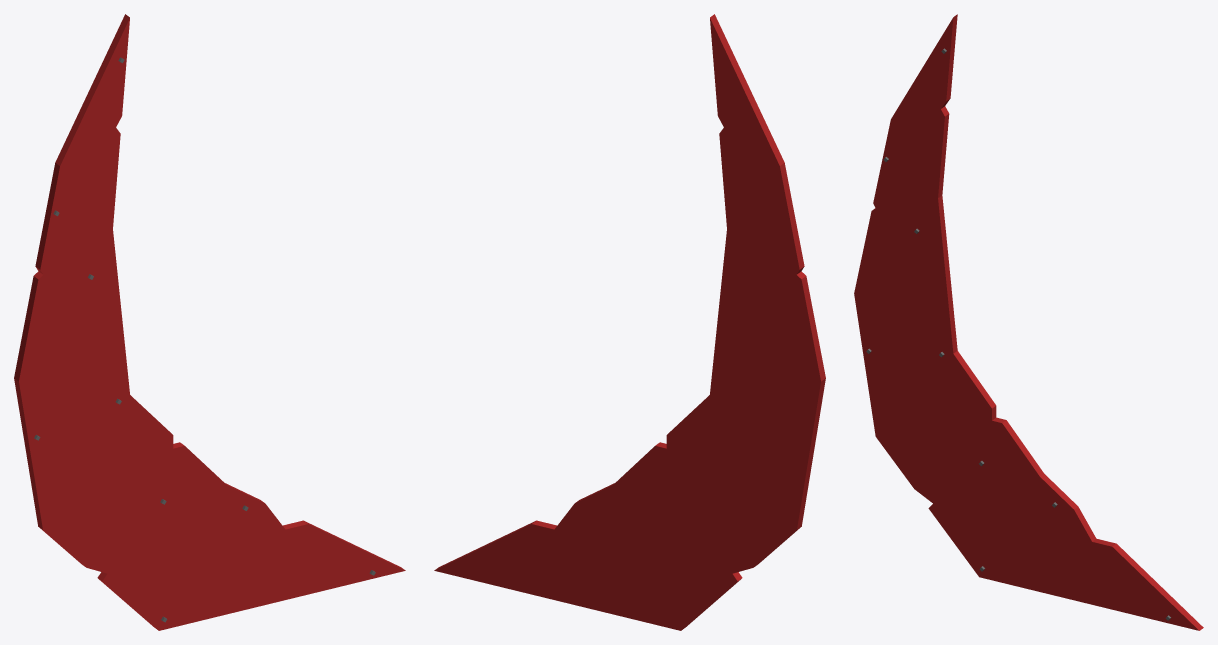
File: Prop_Building_Savage_Metal_Plated_Sheet_Tooth_Tusk_01.FBX
3 views of the same model, side by side, from view 1: azimuth 30°, elevation 25°; view 2: azimuth 150°, elevation 25°; view 3: azimuth 330°, elevation 25° (orthographic). The views are drawn at different scales.
Visible parts, largest first — view 1: Prop_Building_Savage_Metal_Plated_Sheet_Tooth_Tusk_01; view 2: Prop_Building_Savage_Metal_Plated_Sheet_Tooth_Tusk_01; view 3: Prop_Building_Savage_Metal_Plated_Sheet_Tooth_Tusk_01.
Part boxes in pixels (x1,y1,x2,y2): Prop_Building_Savage_Metal_Plated_Sheet_Tooth_Tusk_01: (14,14,405,630); Prop_Building_Savage_Metal_Plated_Sheet_Tooth_Tusk_01: (434,14,825,630); Prop_Building_Savage_Metal_Plated_Sheet_Tooth_Tusk_01: (854,14,1203,630).
Size of the model in its own units: 7631 by 11688 by 222.
